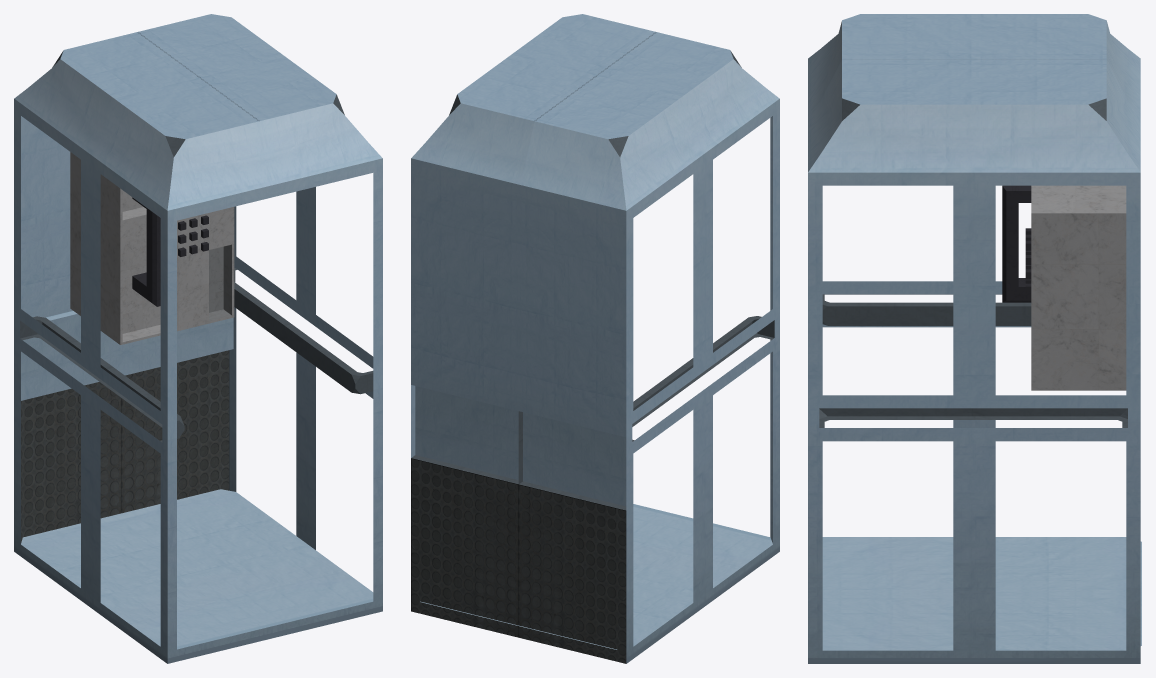
File: 봄_전화부스.FBX
3 views of the same model, side by side, from view 1: azimuth 30°, elevation 25°; view 2: azimuth 150°, elevation 25°; view 3: azimuth 270°, elevation 25° (orthographic). The views are drawn at different scales.
Visible parts, largest first — view 1: Box001, Box002; view 2: Box001; view 3: Box001, Box002.
Boxes of the visible parts, x1=… form: Box001: x1=14, y1=14, x2=382, y2=663; Box002: x1=70, y1=152, x2=234, y2=344; Box001: x1=411, y1=14, x2=779, y2=663; Box001: x1=808, y1=14, x2=1141, y2=663; Box002: x1=1002, y1=185, x2=1126, y2=390.
Size of the model in its own units: 14.56 by 32.64 by 18.03.
Materials: 2 (2 with a texture image).
